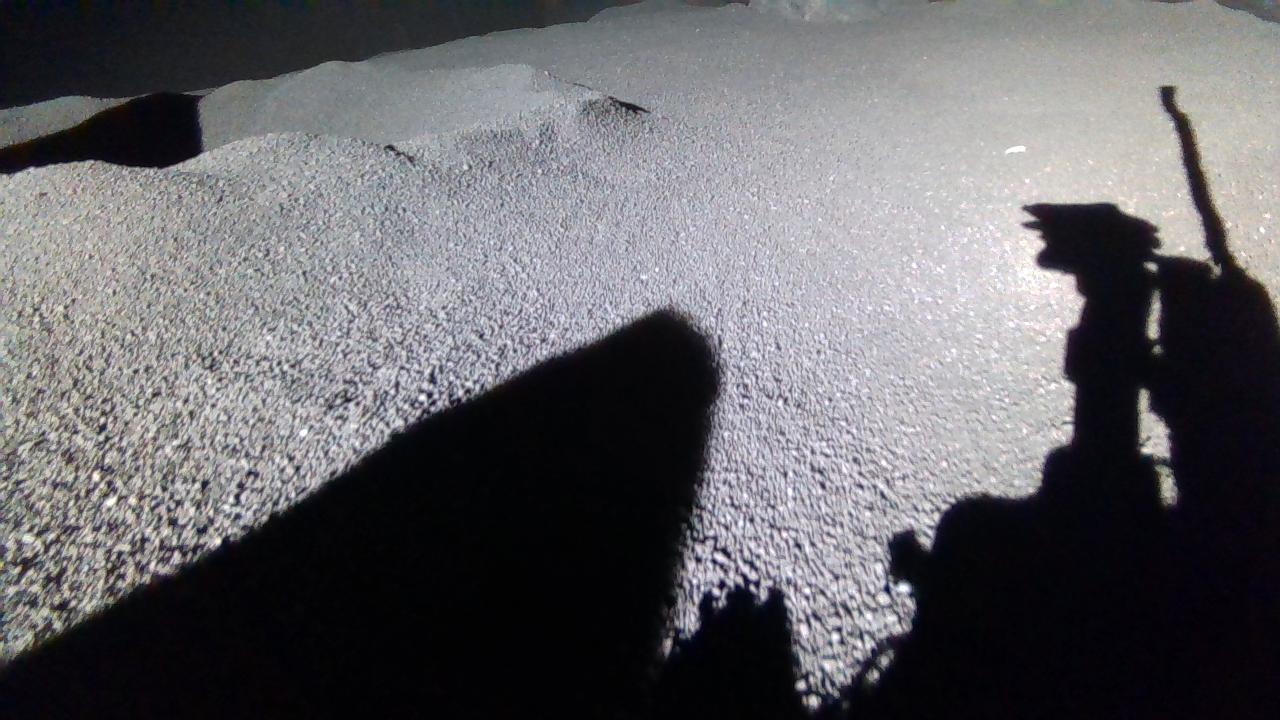rock: (750, 0, 885, 21)
